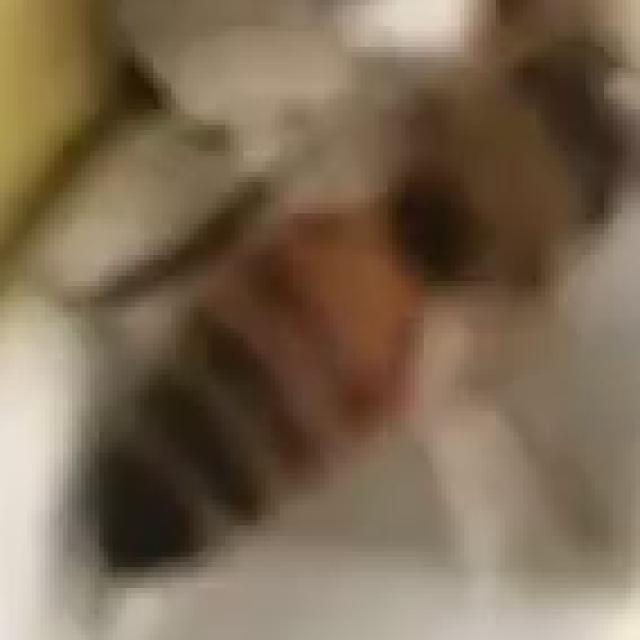honeybee: (5, 41, 628, 569)
